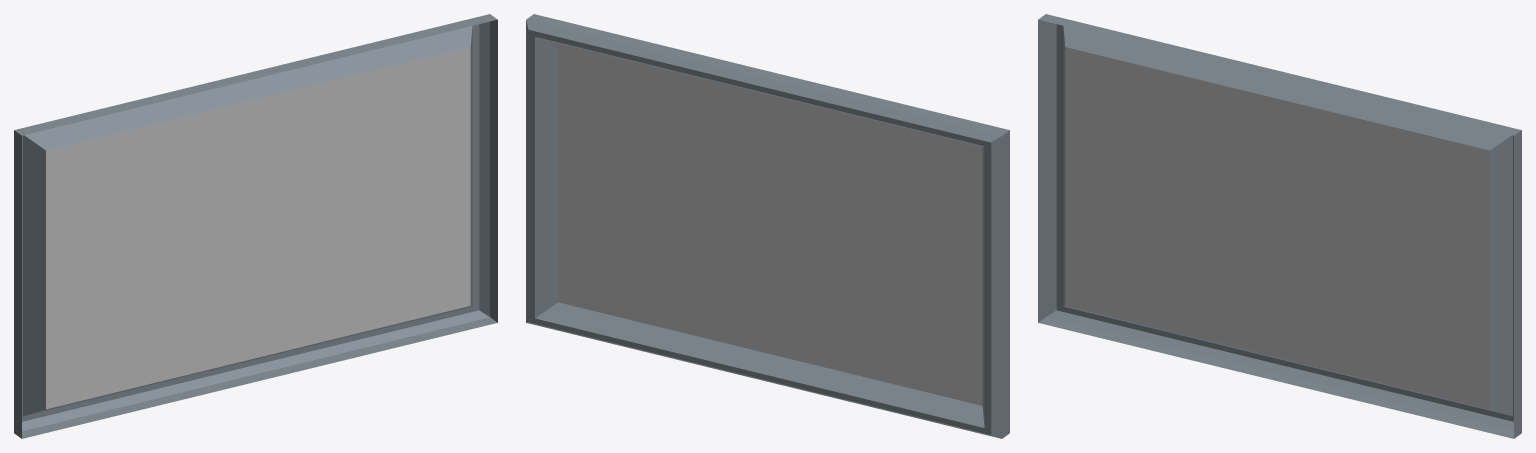
File: Stand.fbx
3 views of the same model, side by side, from view 1: azimuth 30°, elevation 25°; view 2: azimuth 150°, elevation 25°; view 3: azimuth 330°, elevation 25° (orthographic).
Visible parts, largest first — view 1: StandSreen, Stand; view 2: StandSreen, Stand; view 3: StandSreen, Stand.
Part boxes in pixels (left/top/right/bottom): StandSreen: left=46, top=47, right=470, bottom=409; Stand: left=14, top=14, right=497, bottom=438; StandSreen: left=558, top=43, right=982, bottom=405; Stand: left=526, top=14, right=1009, bottom=438; StandSreen: left=1065, top=47, right=1489, bottom=409; Stand: left=1038, top=14, right=1521, bottom=438.
Size of the model in its own units: 210 by 128 by 9.16.
